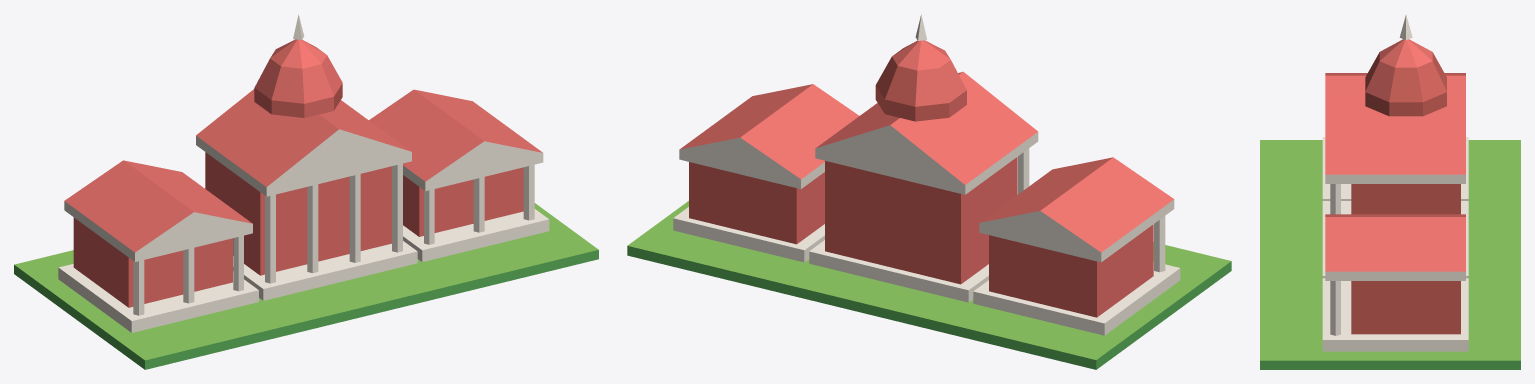
File: skill_placevalue_hall_t3.glb
3 renders of one model, left to right at view 1: azimuth 30°, elevation 25°; view 2: azimuth 150°, elevation 25°; view 3: azimuth 270°, elevation 25°, orthographic. The views are drawn at different scales.
Visible parts, largest first — view 1: wing_center, wing_left, base, wing_right, wing_dome; view 2: wing_center, wing_left, base, wing_right, wing_dome; view 3: base, wing_right, wing_center, wing_dome, wing_left.
Boxes of the visible parts, box(x1,y1,x2,y2) form: wing_center: box(196, 89, 417, 300); wing_left: box(58, 160, 258, 332); base: box(14, 203, 598, 369); wing_right: box(369, 89, 549, 261); wing_dome: box(254, 14, 342, 117); wing_center: box(809, 71, 1038, 302); wing_left: box(973, 157, 1180, 335); base: box(627, 201, 1231, 369); wing_right: box(673, 84, 859, 262); wing_dome: box(875, 14, 966, 121); base: box(1260, 140, 1520, 369); wing_right: box(1322, 214, 1468, 351); wing_center: box(1322, 99, 1468, 278); wing_dome: box(1365, 14, 1446, 116); wing_left: box(1322, 73, 1468, 200).
Bounding box in the file's own units: 2 × 1.04 × 1.
